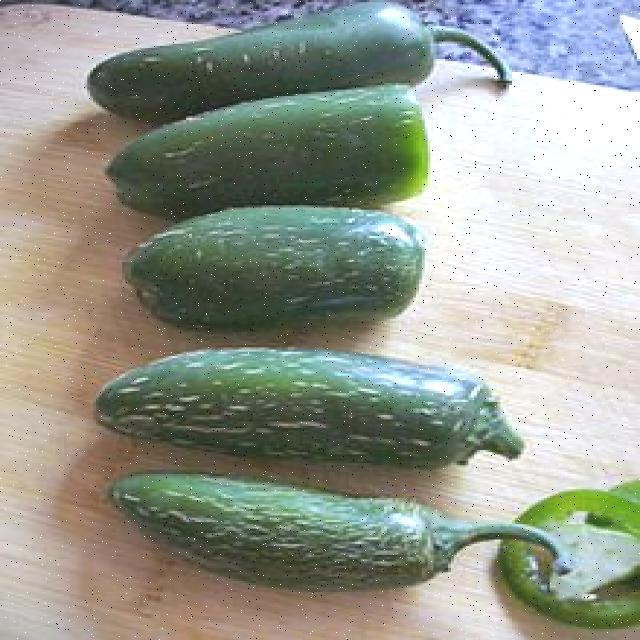Chili Pepper: (111, 474, 564, 591), (87, 2, 512, 121), (96, 352, 527, 466), (116, 88, 431, 215), (125, 208, 425, 328), (503, 545, 640, 630), (518, 483, 640, 538)
